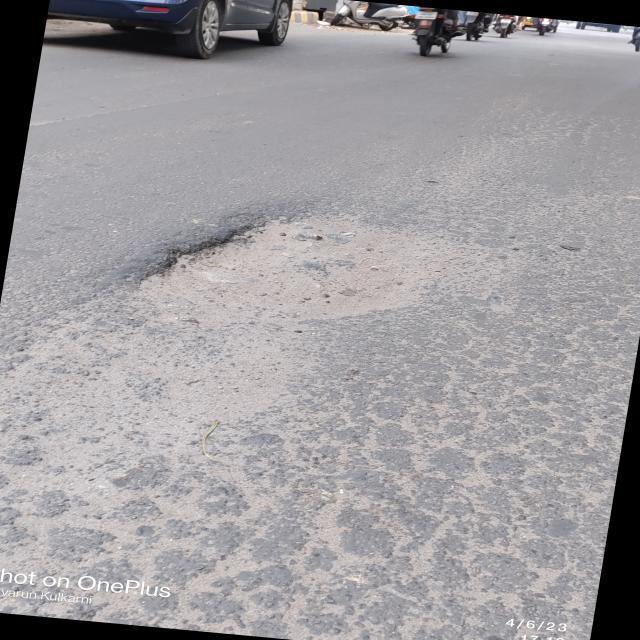potholes: (122, 221, 460, 320)
